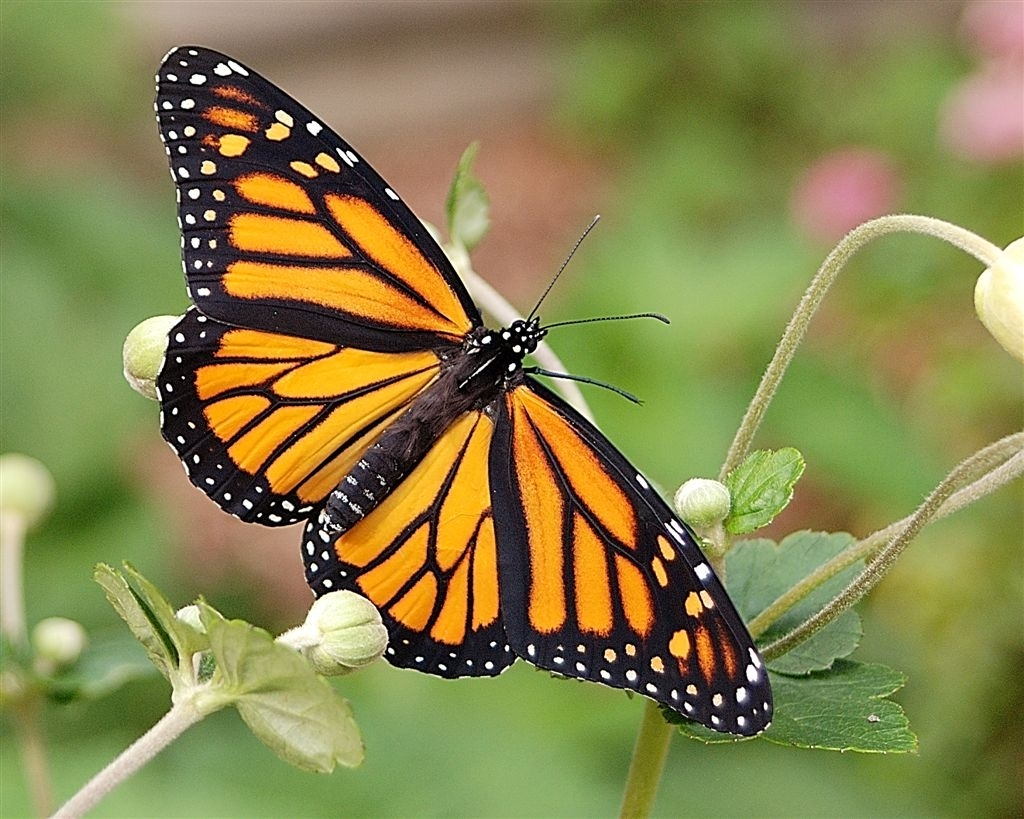Butterfly: (116, 33, 776, 766)
